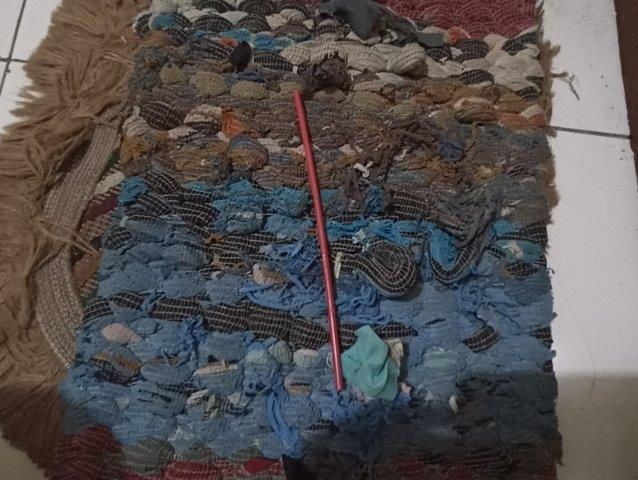sedotan: (294, 92, 344, 388)
